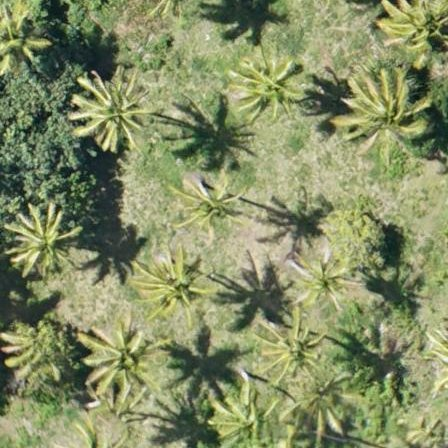palm_tree: (349, 77, 424, 157), (85, 321, 156, 397), (288, 242, 359, 317), (228, 50, 297, 123), (74, 75, 140, 146), (204, 389, 282, 448), (1, 311, 64, 382), (383, 1, 448, 64), (136, 245, 198, 311), (8, 208, 69, 274), (291, 371, 359, 429), (176, 169, 233, 230), (266, 318, 322, 378), (1, 3, 36, 66)
